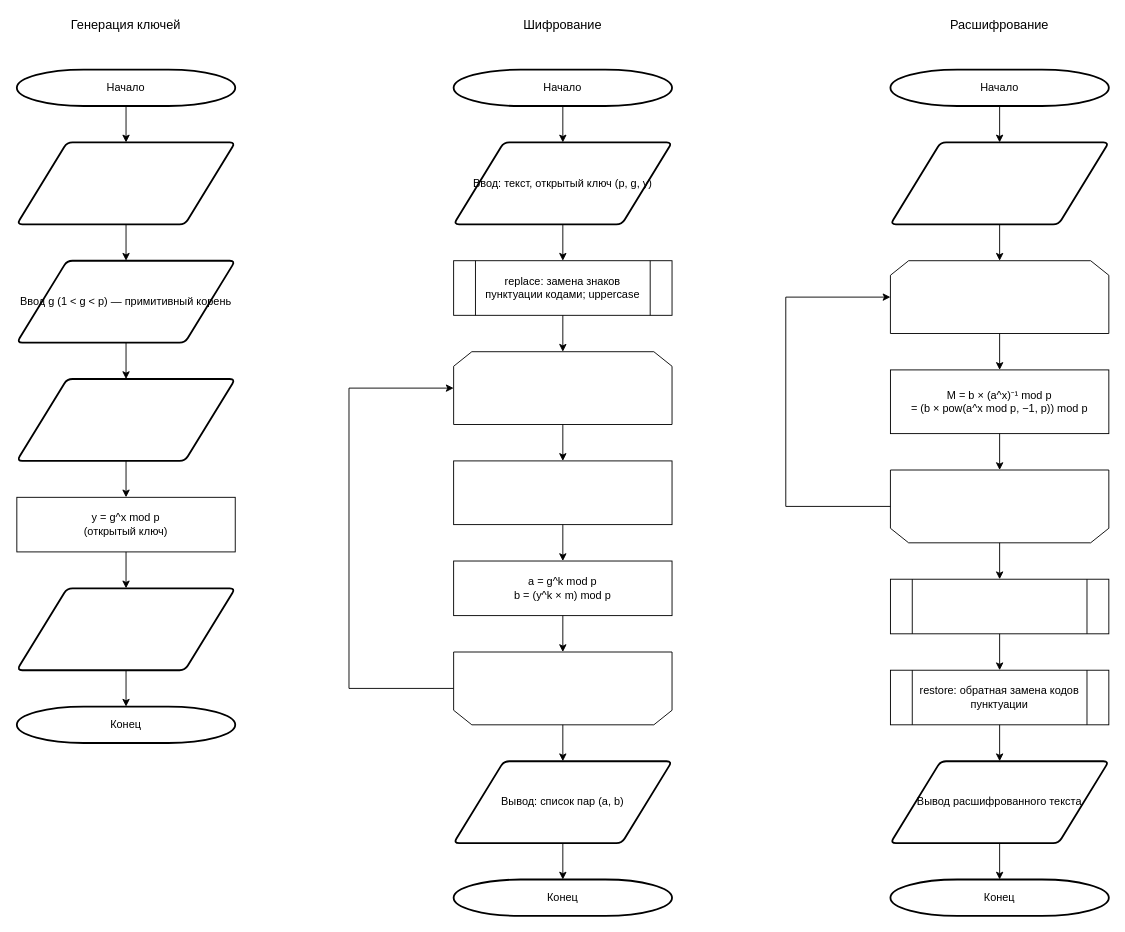
Image size: 1125x932. Some labels were removed from this diagram. The shapes that lost their labels are listed below. From the top down, each one's centre as x and y in pixels, then its label:
At pixel 125 183: "Ввод простого числа p (p > 33)".
At pixel 999 183: "Ввод: список (a, b), секретный ключ x, модуль p".
At pixel 999 297: "цикл: для каждой пары (a, b)".
At pixel 562 388: "цикл: для каждого символа m".
At pixel 125 419: "Ввод секретного ключа x (1 < x < p)".
At pixel 562 492: "Выбор случайного k (1 < k < p−1) такого, что gcd(k, p−1) = 1".
At pixel 999 606: "Преобразование чисел M → символы АЛФАВИТА".
At pixel 125 629: "Открытый ключ: (p, g, y) Секретный ключ: x".
